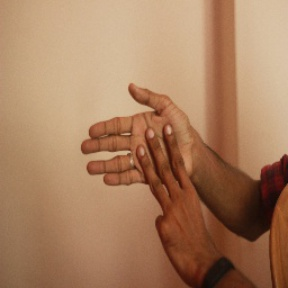M: (79, 80, 204, 240)
